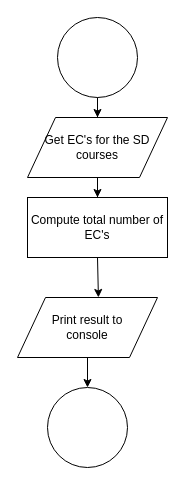
The diagram is 185 pixels wide and 485 high, and some of its shapes have lost their labels. The shapes that lost their labels are listed below. From the top down, each one's box as (x1, y1, x2, y2) in pixels, then its label:
(56, 16, 138, 98): Start
(46, 386, 128, 468): End
